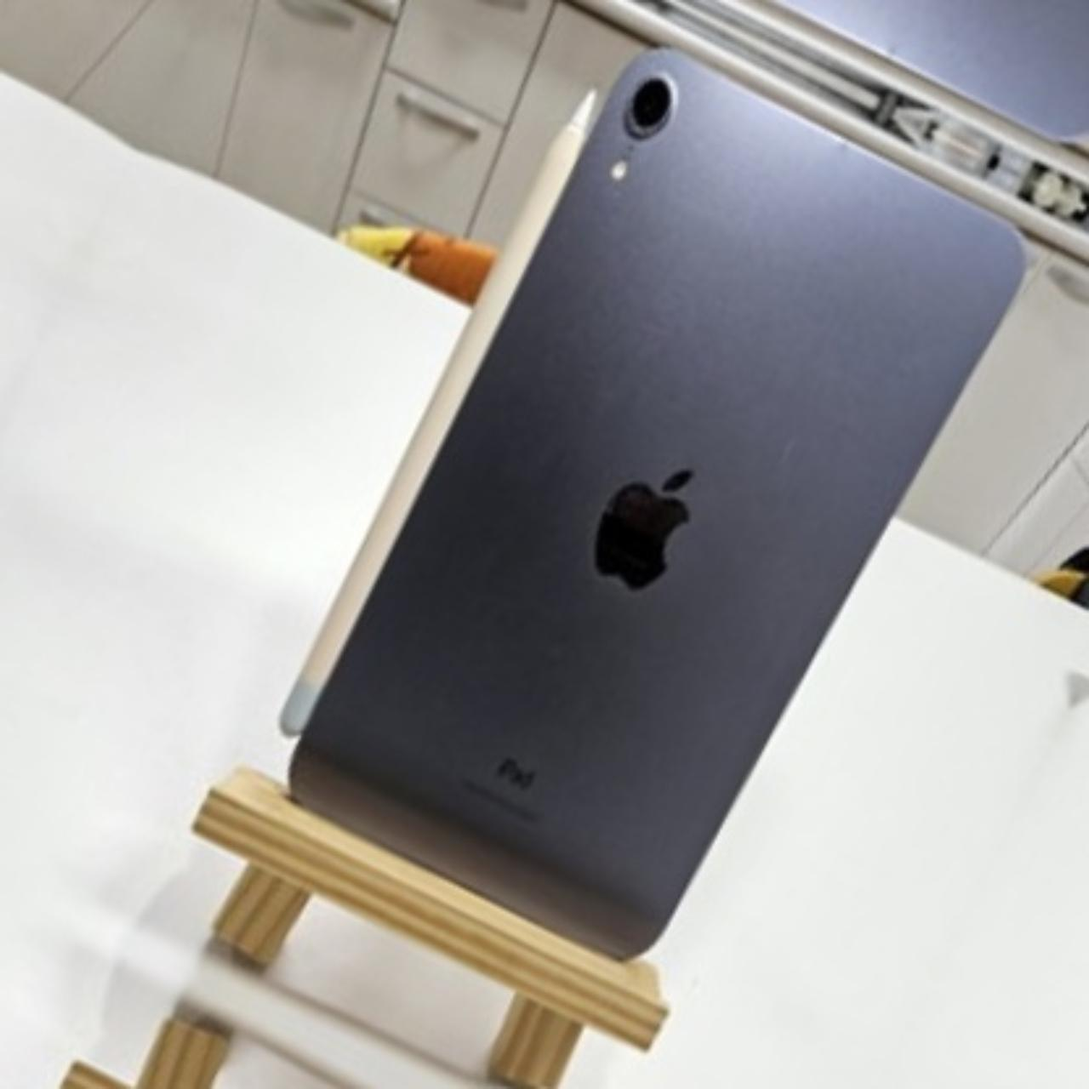Tablet_PC: (217, 0, 1062, 992)
